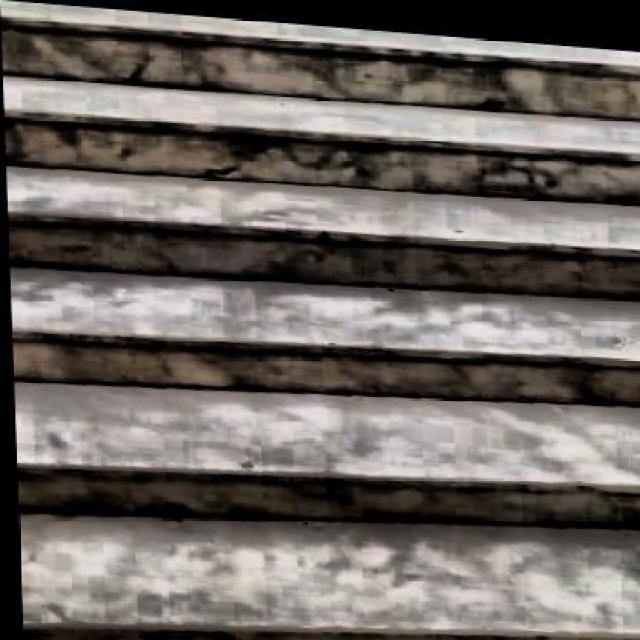stair: (0, 1, 638, 638)
